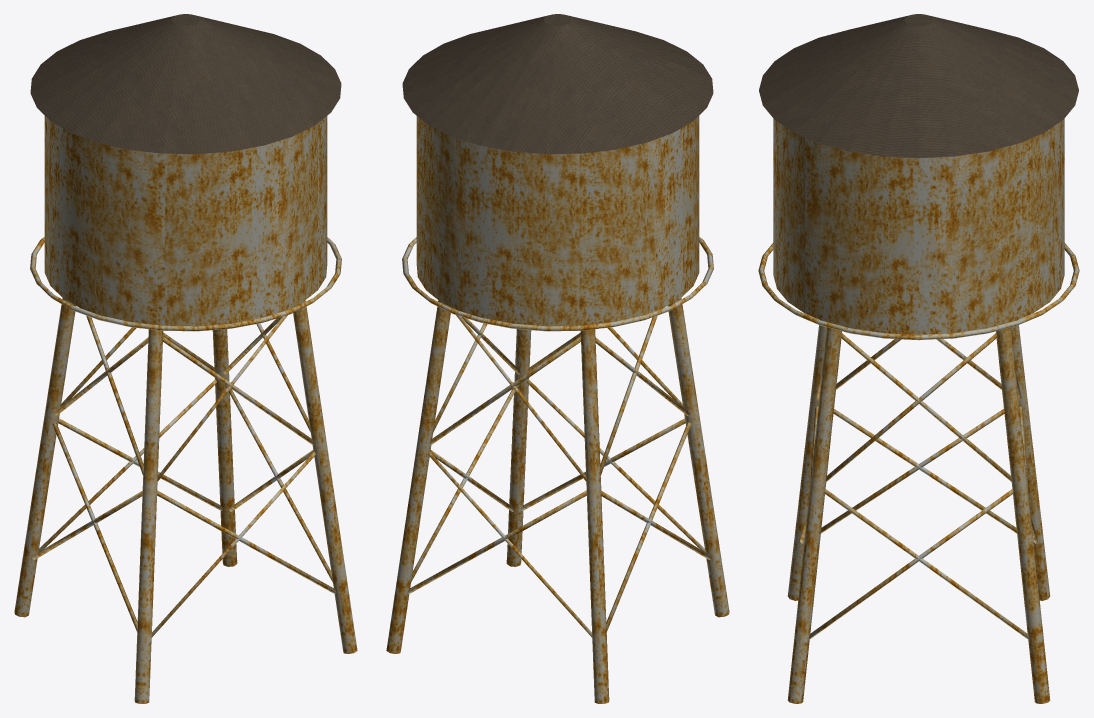
File: water_tower.glb
3 views of the same model, side by side, from view 1: azimuth 30°, elevation 25°; view 2: azimuth 150°, elevation 25°; view 3: azimuth 270°, elevation 25° (orthographic). The views are drawn at different scales.
Parts seen in each view (by area): view 1: water_tower; view 2: water_tower; view 3: water_tower.
Part boxes in pixels (<box>): water_tower: <box>14,14,357,703</box>; water_tower: <box>386,14,729,703</box>; water_tower: <box>758,14,1079,703</box>.
Size of the model in its own units: 6.62 by 14.32 by 6.62.
Materials: 1 (1 with a texture image).
